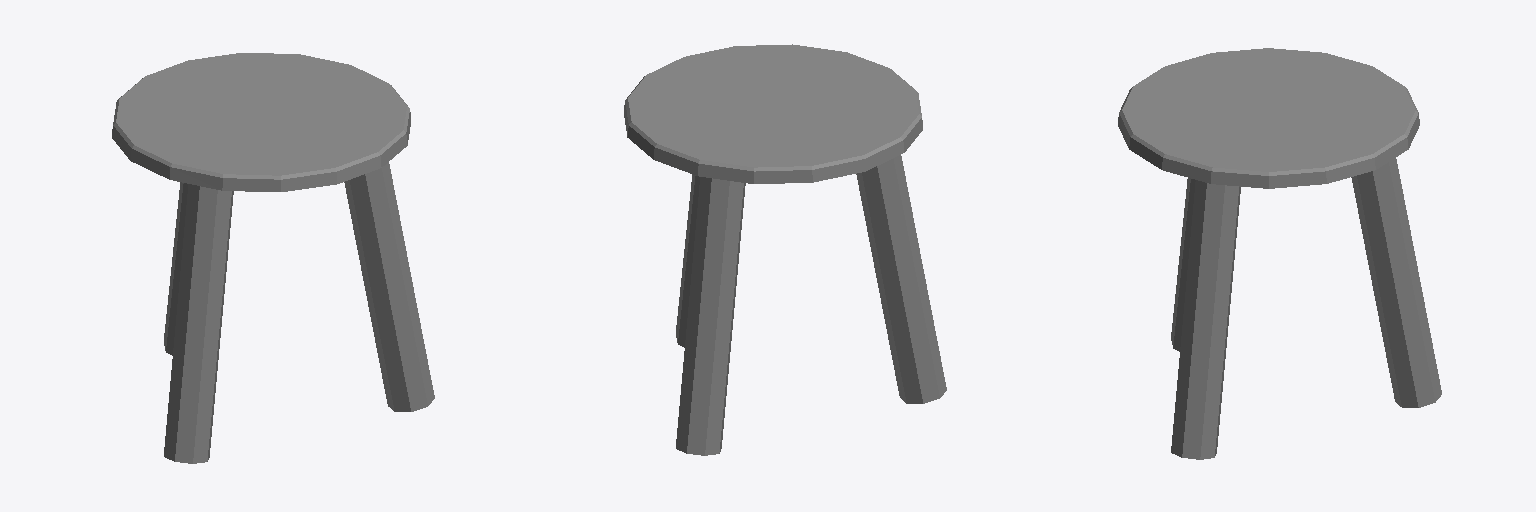
File: stool_OBJ.obj
The picture shows the model from 3 angles: view 1: azimuth 30°, elevation 25°; view 2: azimuth 150°, elevation 25°; view 3: azimuth 270°, elevation 25°; orthographic projection.
Parts seen in each view (by area): view 1: stool2; view 2: stool2; view 3: stool2.
Part boxes in pixels (left/top/right/bottom): stool2: left=112, top=53, right=434, bottom=463; stool2: left=624, top=44, right=946, bottom=455; stool2: left=1118, top=48, right=1441, bottom=459.
Bounding box in the file's own units: 0.7948 × 0.8376 × 0.8451.